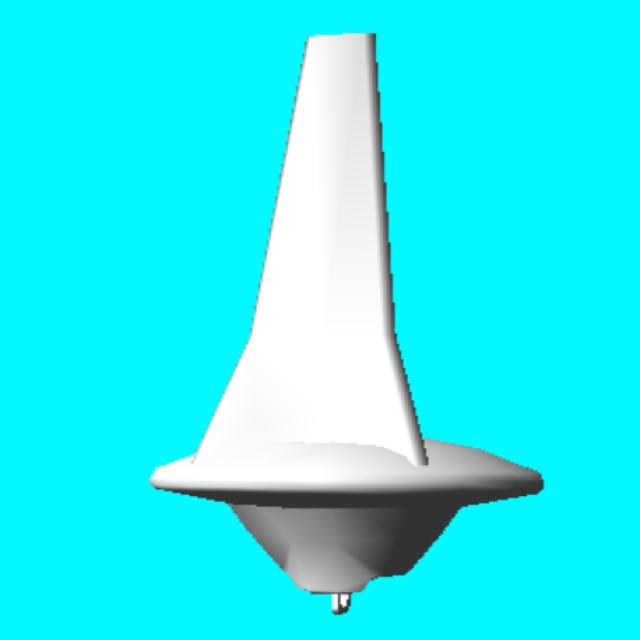WhiteBuoy: (151, 34, 543, 612)
